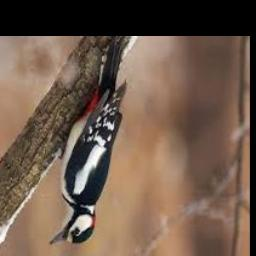Woodpecker: (49, 36, 126, 246)
